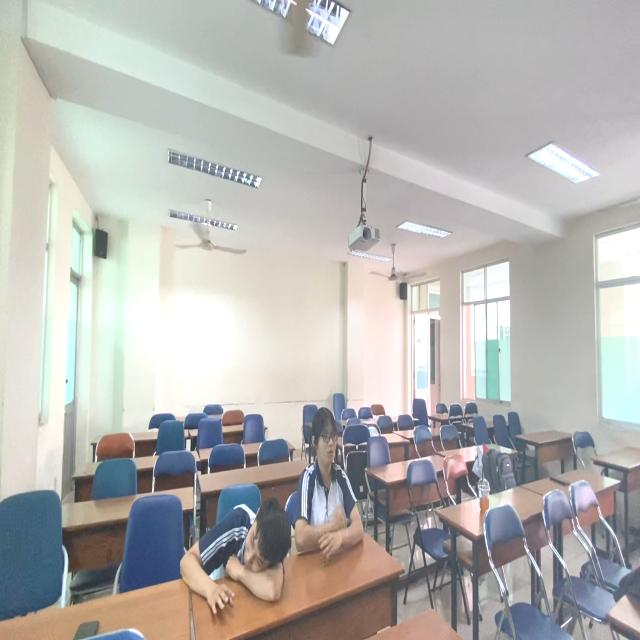sleep: (177, 493, 295, 622)
